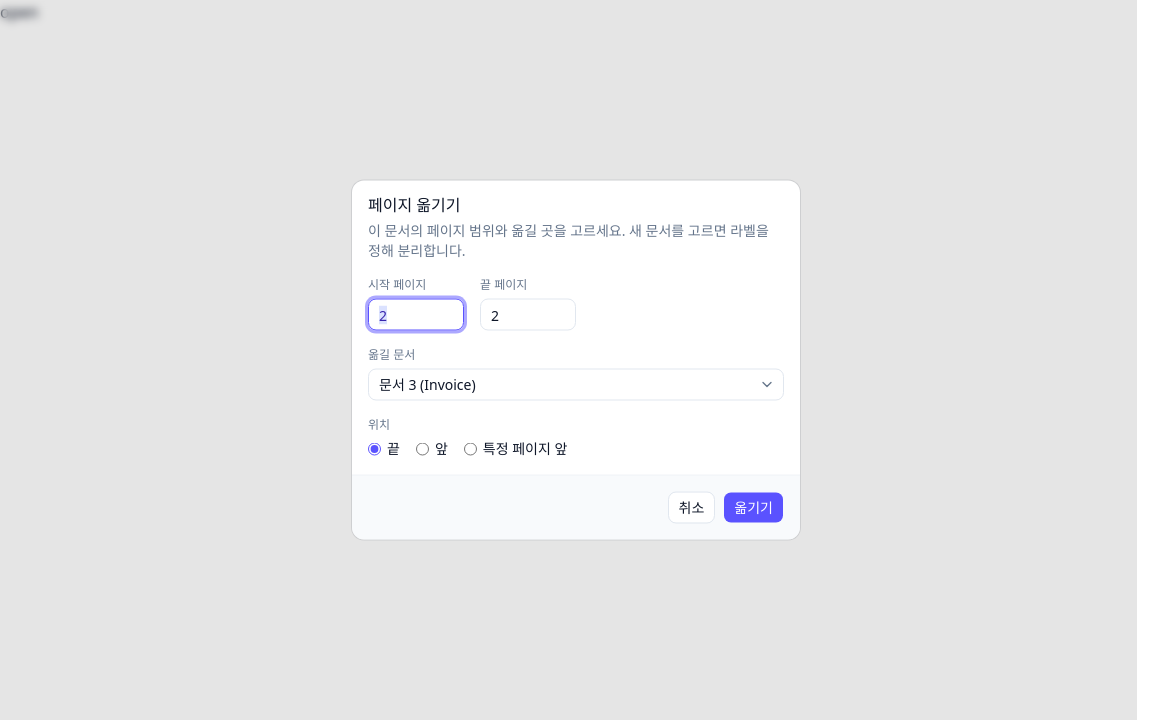
Scenario: MovePagesDialog 검사 › 시작이 끝보다 큼 이면 범위 오류를 보이고 부르지 않는다
Replace the text in the field with test id "job-review-move-pages-dialog-input-from" with "4" at (416, 314), box [368,298,464,330]
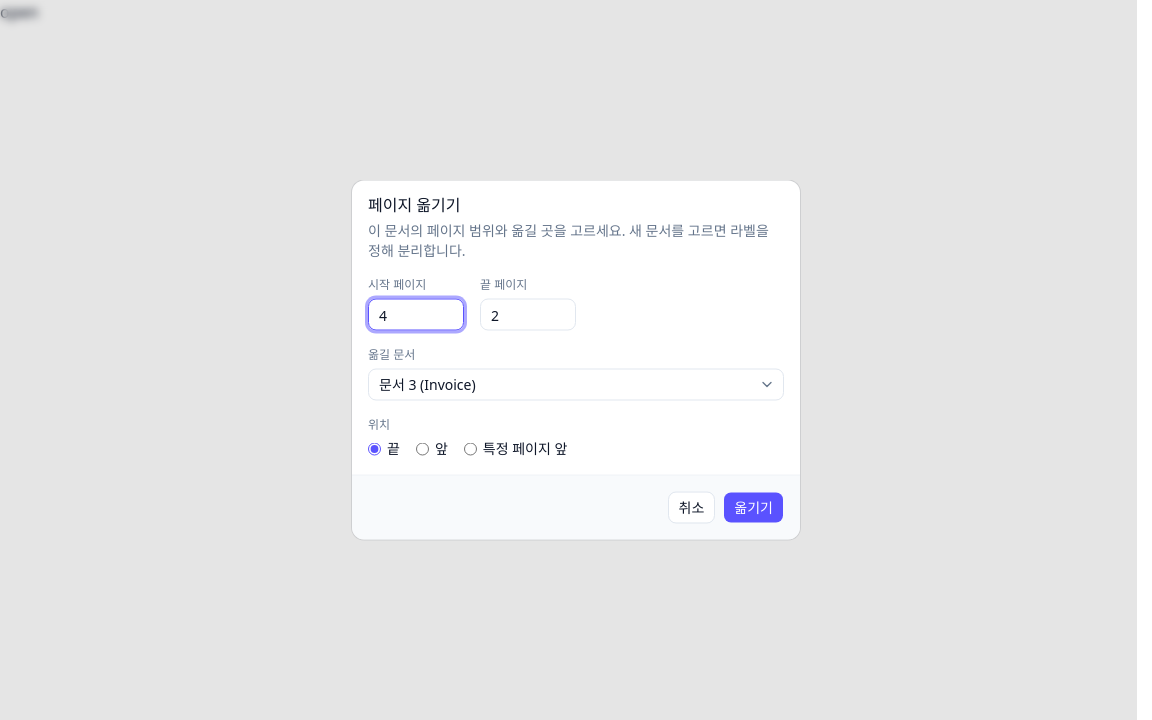
Replace the text in the field with test id "job-review-move-pages-dialog-input-to" with "3" at (528, 314), box [480,298,576,330]
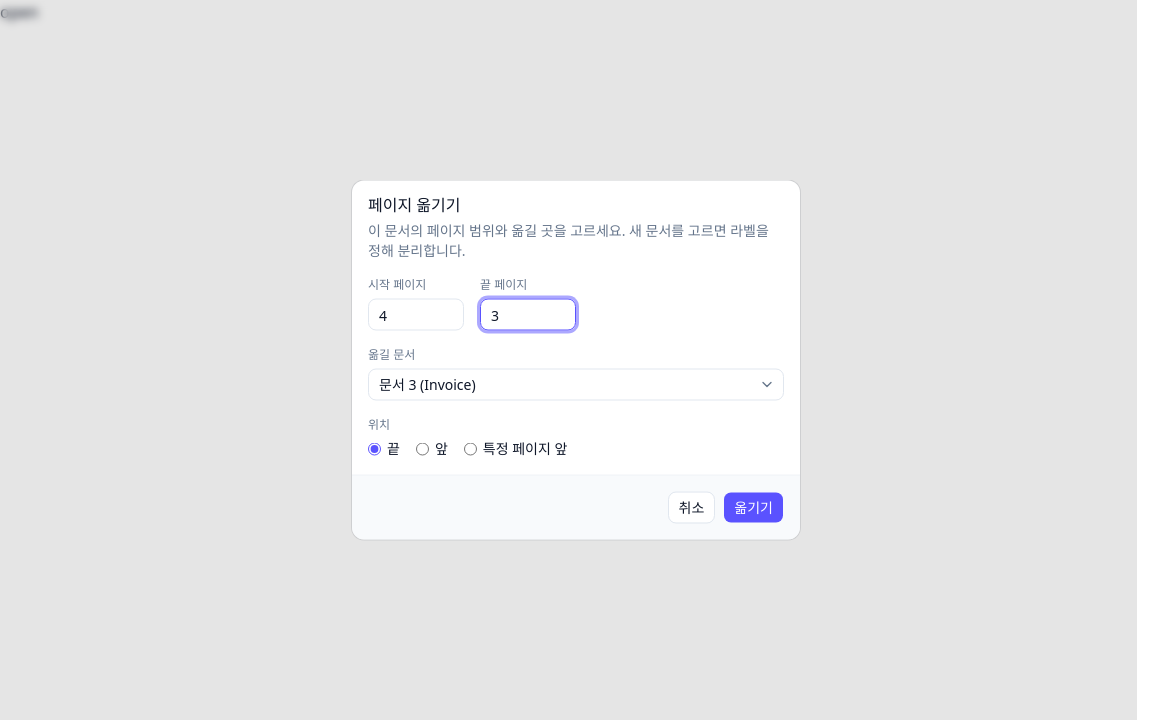
Click the button with test id "job-review-move-pages-dialog-button-move" at (754, 508), box [723,492,784,524]
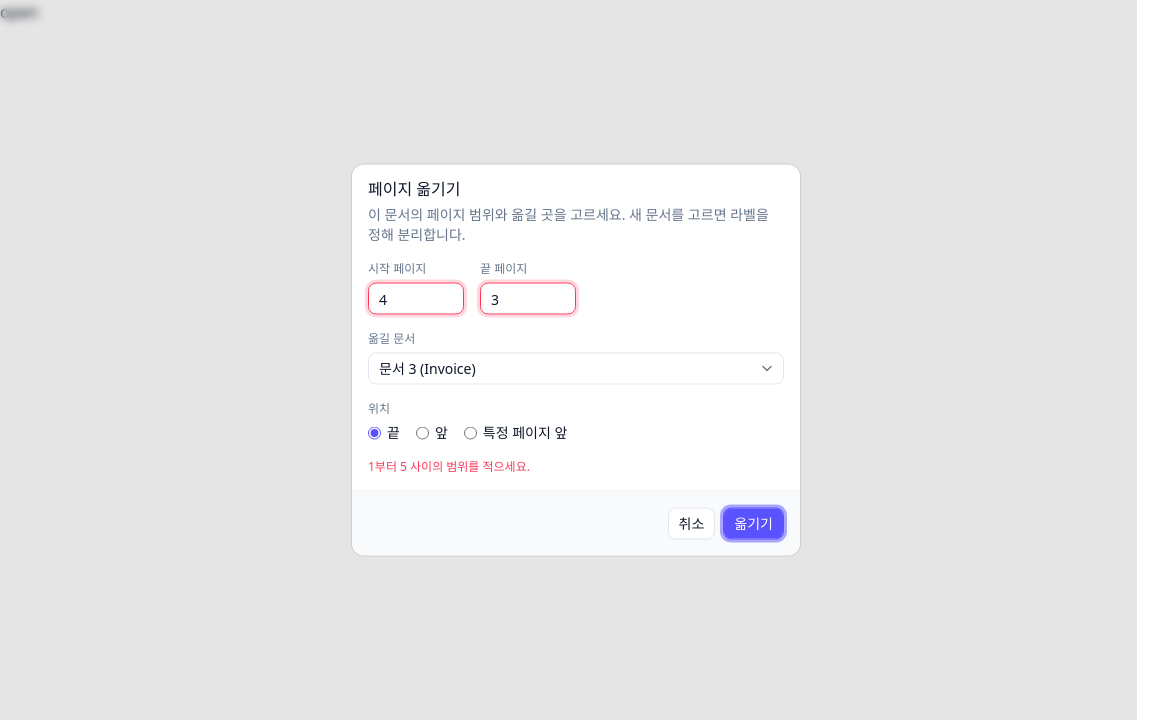
Expected: the message reads "1부터 5 사이의 범위를 적으세요.", [368,458,530,474]
